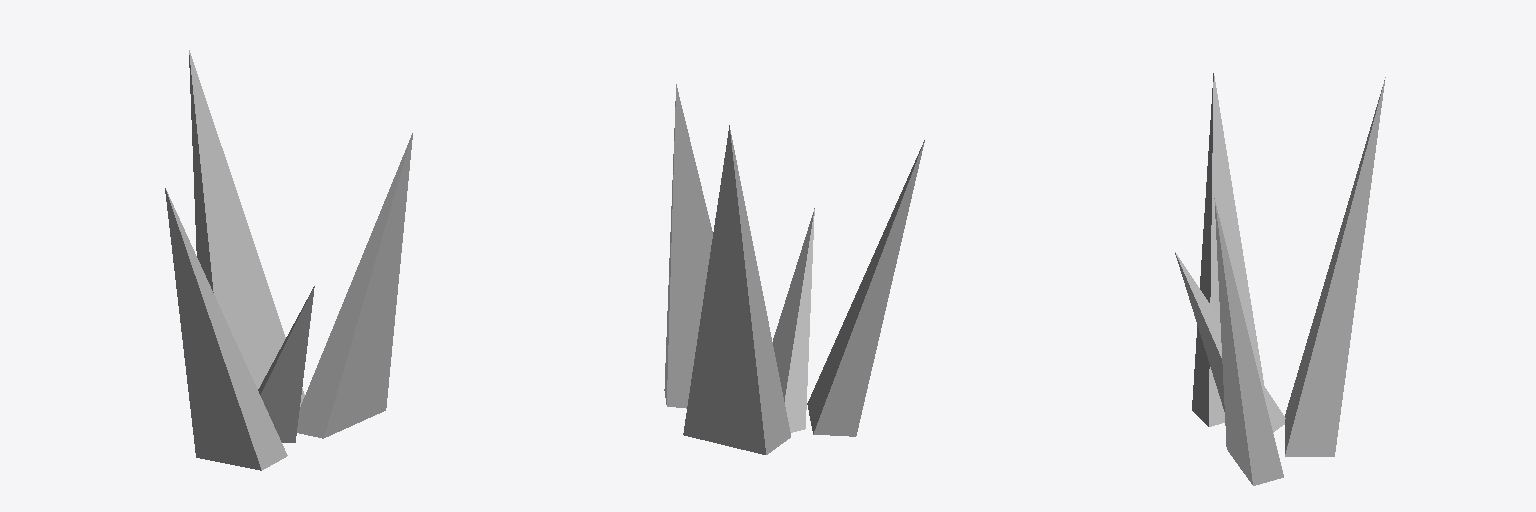
The model's file is grass.obj.
3 views of the same model, side by side, from view 1: azimuth 30°, elevation 25°; view 2: azimuth 150°, elevation 25°; view 3: azimuth 270°, elevation 25° (orthographic).
Parts seen in each view (by area): view 1: Cone.001, Cone.002, Cone, Cone.003; view 2: Cone, Cone.002, Cone.001, Cone.003; view 3: Cone, Cone.001, Cone.002, Cone.003.
Part boxes in pixels (x1,y1,x2,y2): Cone.001: (297,133,412,438); Cone.002: (165,188,287,470); Cone: (189,50,304,406); Cone.003: (258,286,314,442); Cone: (683,125,790,454); Cone.002: (807,140,924,436); Cone.001: (664,84,712,408); Cone.003: (773,208,814,432); Cone: (1285,77,1385,456); Cone.001: (1214,198,1283,485); Cone.002: (1192,73,1263,426); Cone.003: (1175,252,1285,432).
Bounding box in the file's own units: 0.7201 × 0.9569 × 0.5297.